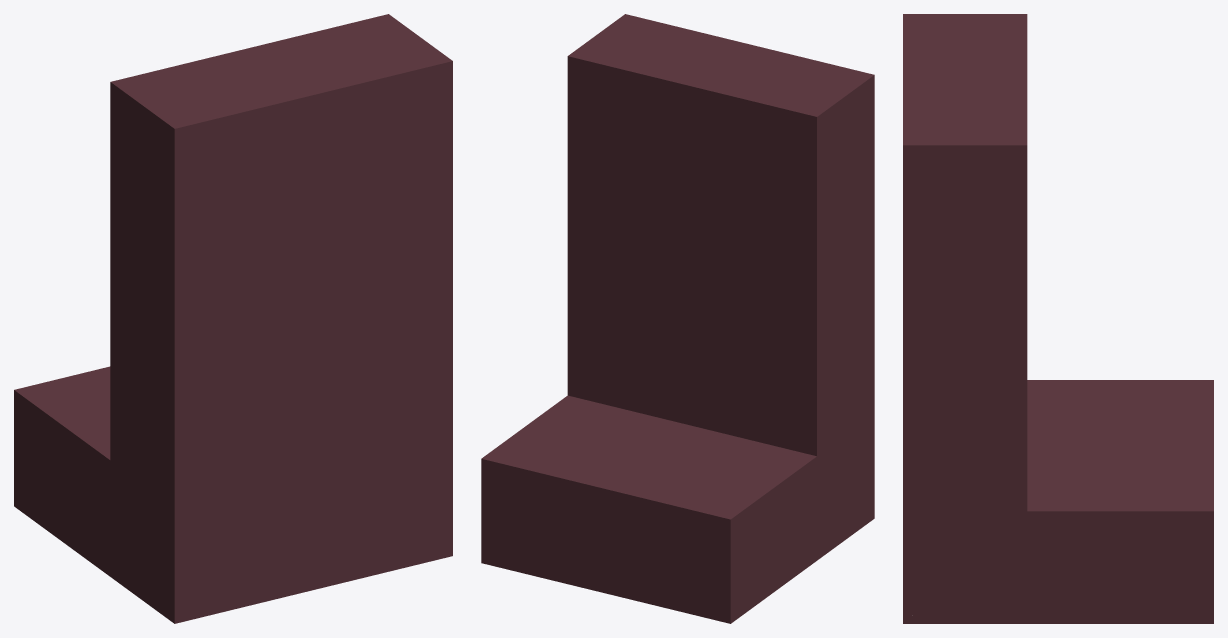
File: buildings-pool-part-edge-1x1m.glb
3 views of the same model, side by side, from view 1: azimuth 30°, elevation 25°; view 2: azimuth 150°, elevation 25°; view 3: azimuth 270°, elevation 25° (orthographic). The views are drawn at different scales.
Parts seen in each view (by area): view 1: pool-part-edge-1x1m; view 2: pool-part-edge-1x1m; view 3: pool-part-edge-1x1m.
Boxes of the visible parts, x1=… form: pool-part-edge-1x1m: x1=14, y1=14, x2=452, y2=623; pool-part-edge-1x1m: x1=481, y1=14, x2=874, y2=623; pool-part-edge-1x1m: x1=903, y1=14, x2=1213, y2=623.
Size of the model in its own units: 1 by 1.7 by 1.
